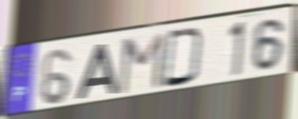1: (227, 19, 247, 78)
6: (38, 47, 73, 108), (251, 17, 288, 73)
A: (74, 41, 120, 101)
D: (162, 27, 206, 89)
M: (116, 30, 168, 97)
